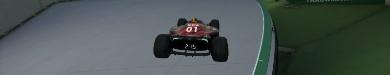Car: (151, 16, 229, 62)
Solid White and black: (247, 0, 276, 74)
grass: (256, 0, 389, 74)
